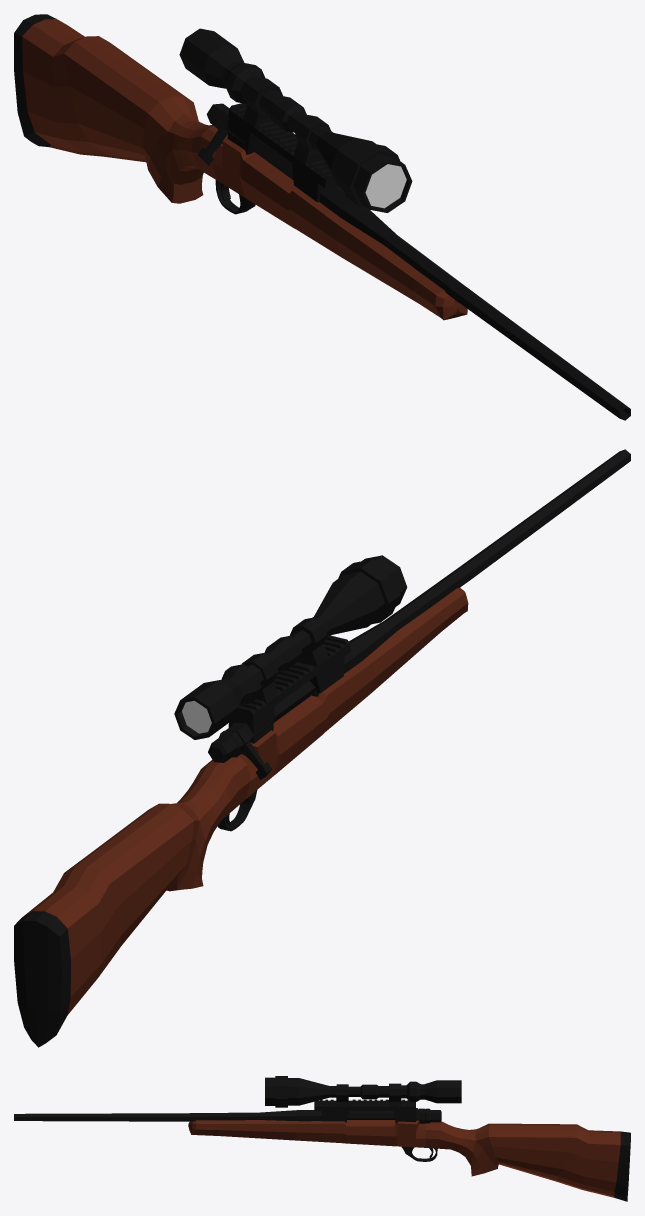
Rendered from uploads_files_693787_hunting_rifle.fbx.
3 views of the same model, one above another, from view 1: azimuth 30°, elevation 25°; view 2: azimuth 150°, elevation 25°; view 3: azimuth 270°, elevation 25° (orthographic). The views are drawn at different scales.
Visible parts, largest first — view 1: Cube, Cube.001, Cylinder; view 2: Cube, Cube.001, Cylinder; view 3: Cube, Cube.001, Cylinder.
Part boxes in pixels (x1=…): Cube: x1=14, y1=14, x2=467, y2=320; Cube.001: x1=179, y1=28, x2=412, y2=212; Cylinder: x1=197, y1=103, x2=630, y2=420; Cube: x1=14, y1=588, x2=468, y2=1047; Cube.001: x1=174, y1=555, x2=407, y2=743; Cylinder: x1=208, y1=449, x2=630, y2=779; Cube: x1=188, y1=1120, x2=630, y2=1201; Cube.001: x1=265, y1=1076, x2=461, y2=1123; Cylinder: x1=14, y1=1108, x2=441, y2=1123.
Bounding box in the file's own units: 0.5968 × 2.1 × 9.31.
